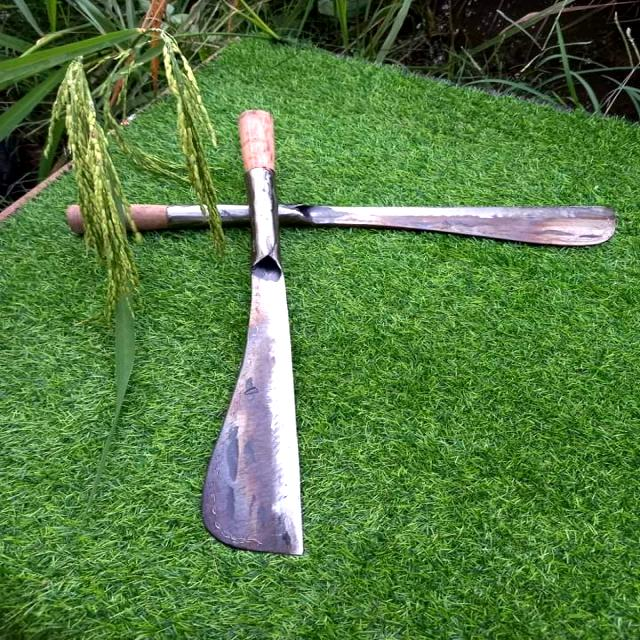eto: (196, 101, 308, 562)
